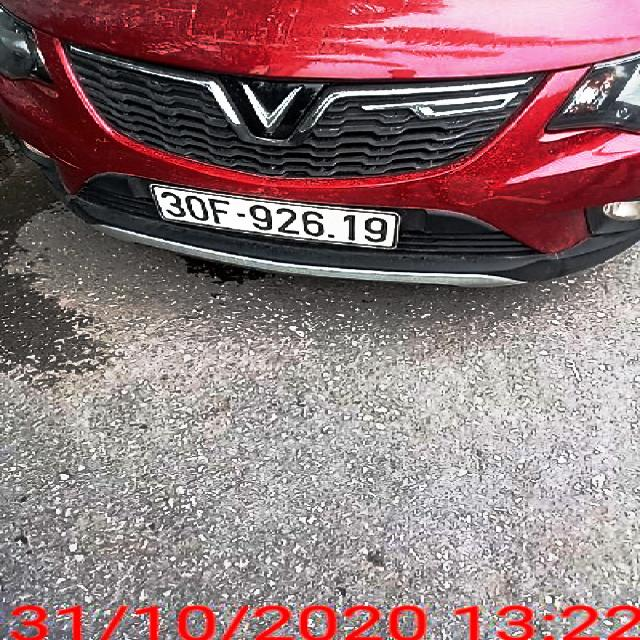license_plate: (149, 185, 399, 249)
